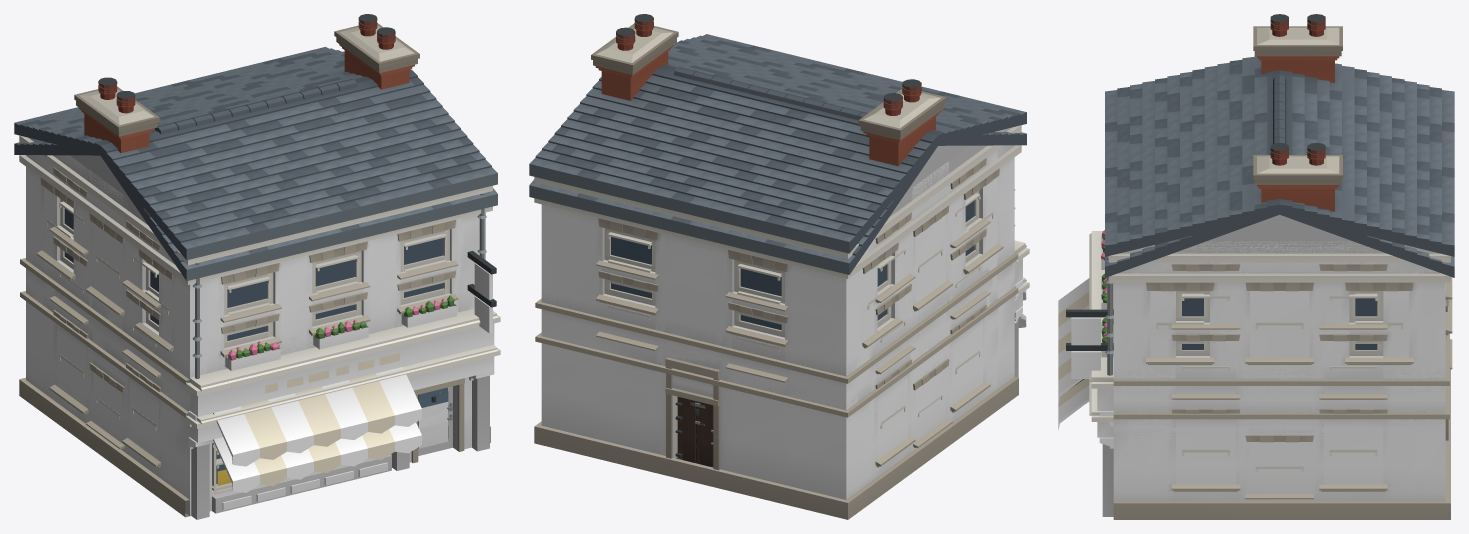
Rendered from shopfront-near.glb.
3 renders of one model, left to right at view 1: azimuth 30°, elevation 25°; view 2: azimuth 150°, elevation 25°; view 3: azimuth 270°, elevation 25°, orthographic. The views are drawn at different scales.
Parts seen in each view (by area): view 1: ShopfrontTallNear, ShopfrontNear; view 2: ShopfrontTallNear, ShopfrontNear; view 3: ShopfrontTallNear, ShopfrontNear.
Part boxes in pixels (x1,y1,x2,y2): ShopfrontTallNear: (14,21,500,518); ShopfrontNear: (14,14,500,519); ShopfrontTallNear: (529,21,1029,498); ShopfrontNear: (529,14,1029,519); ShopfrontTallNear: (1058,22,1454,516); ShopfrontNear: (1058,14,1454,519).
Bounding box in the file's own units: 0.988 × 1.08 × 1.07.
